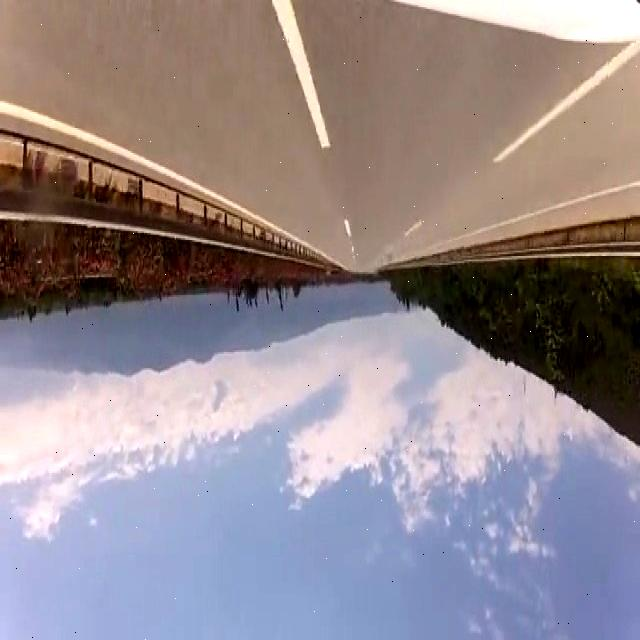lane: (0, 101, 285, 230), (495, 45, 638, 162), (272, 1, 328, 147)
road: (3, 1, 638, 271)
